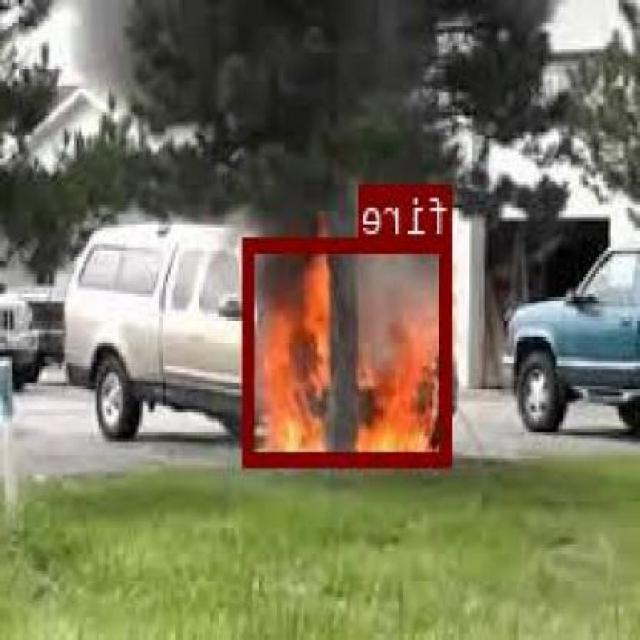Fire: (247, 237, 453, 465)
